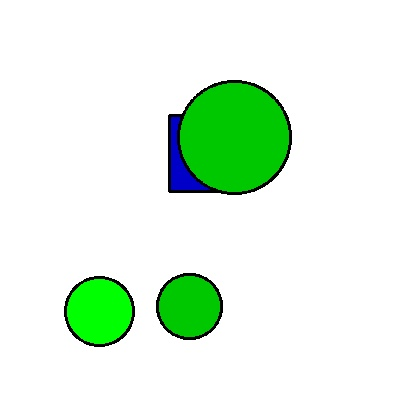circle: (178, 78, 291, 197), (65, 261, 134, 361), (137, 274, 241, 339)
rectangle: (169, 115, 238, 191)
